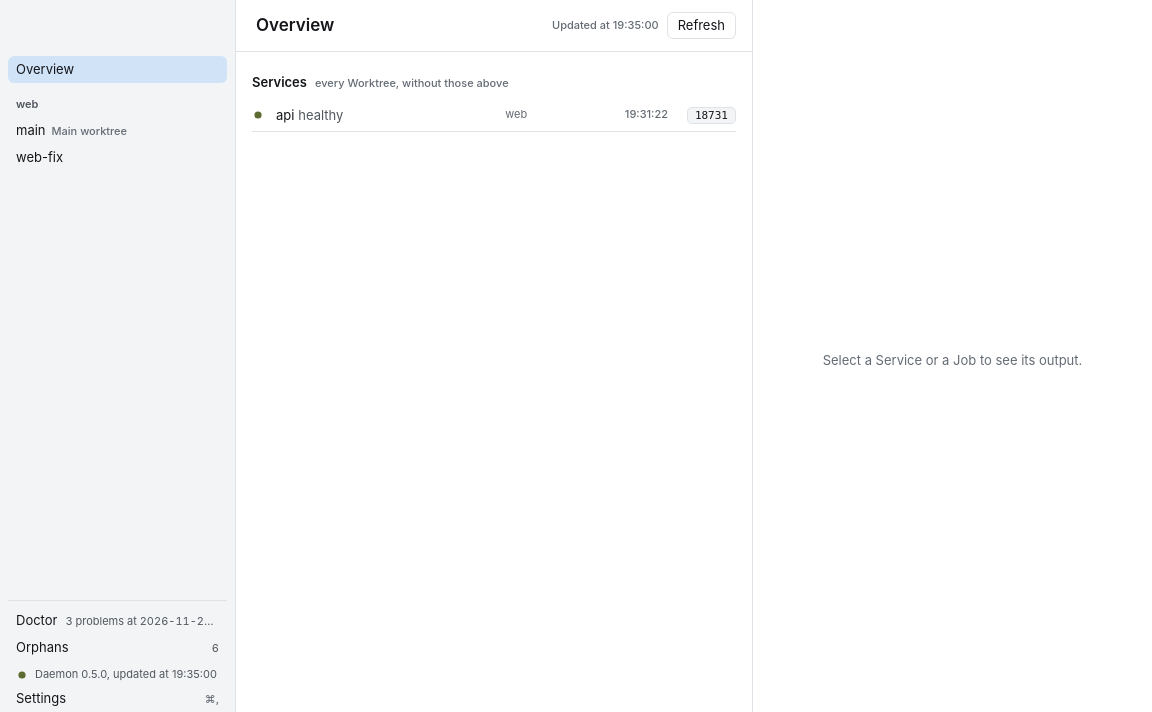
the Doctor screen › leaves out the checks that belong to a Worktree, which a run from no directory only skips
This screenshot has width=1152, height=712.
Click the button "Doctor 3 problems at 2026-11-25 18:58".
click(118, 621)  # box [8, 607, 227, 634]
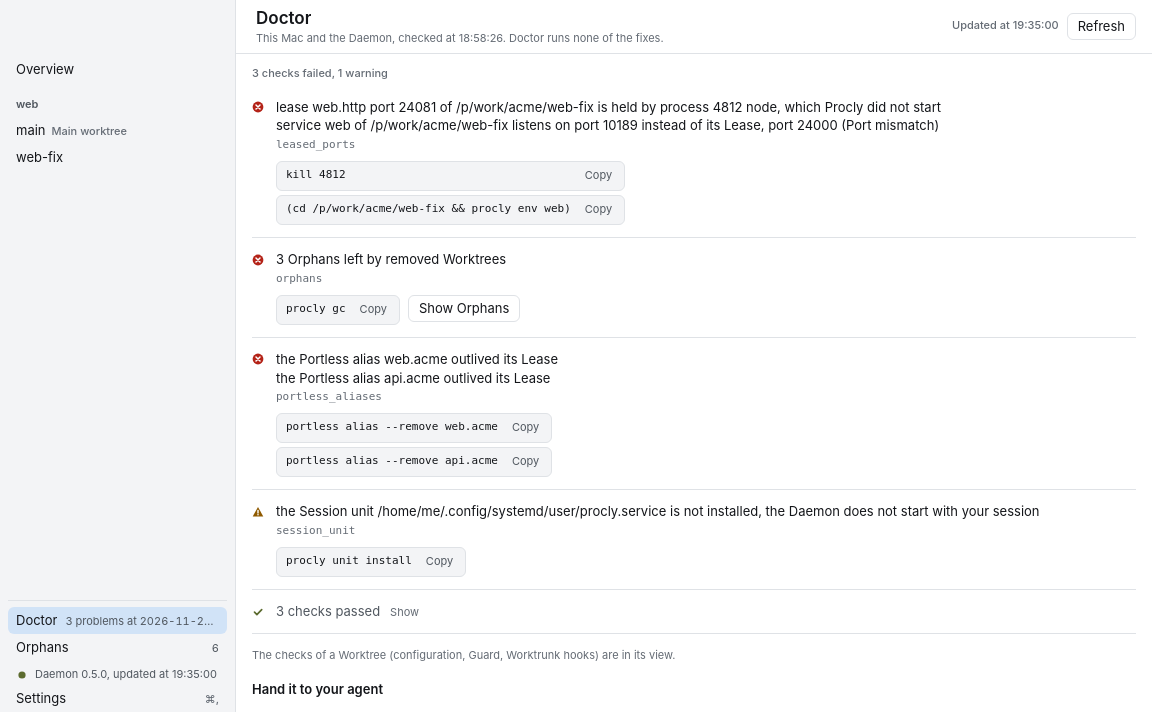
Result: the text "orphans" is shown at [276, 272, 322, 285]
